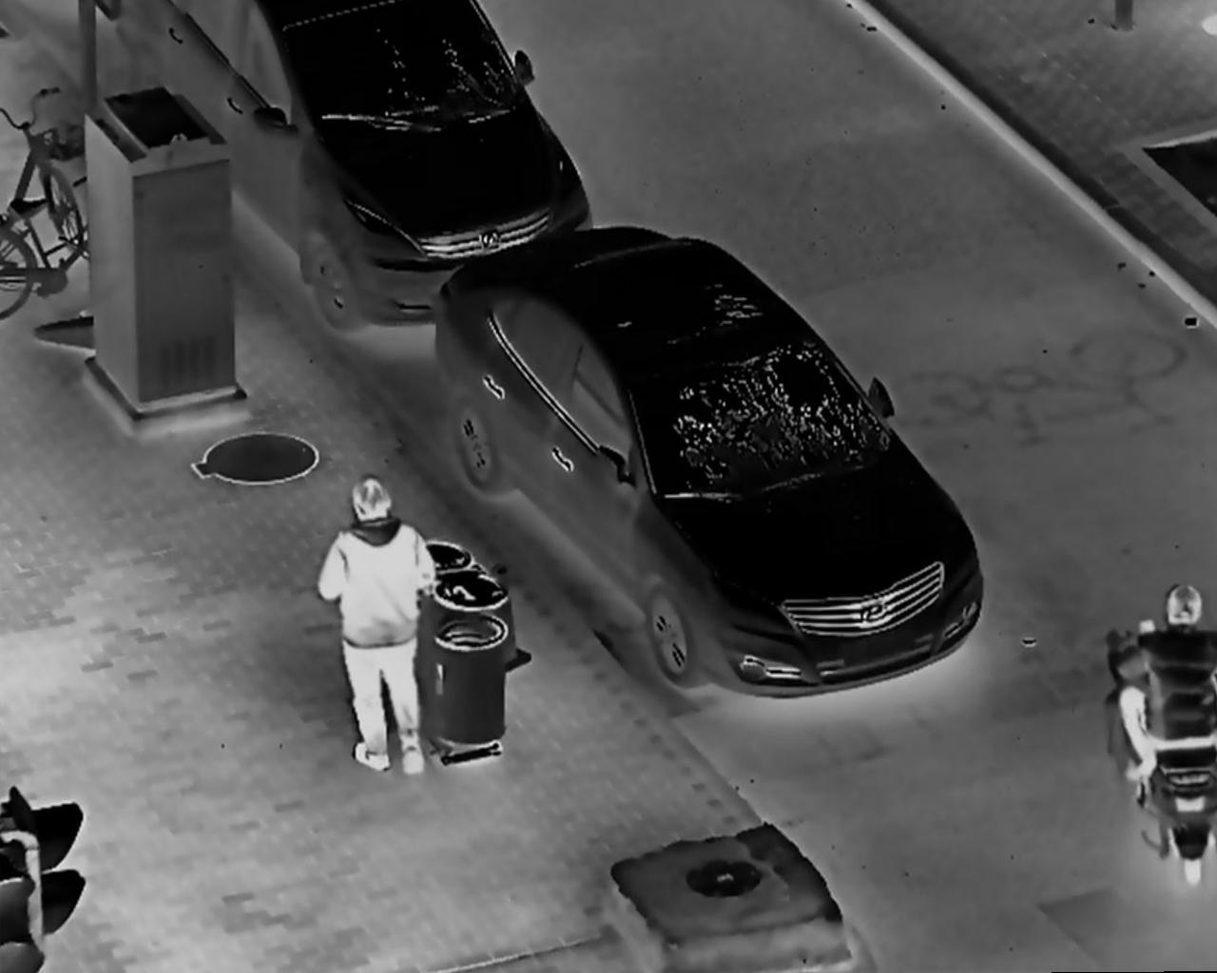person: (314, 475, 452, 778), (1111, 585, 1217, 878)
